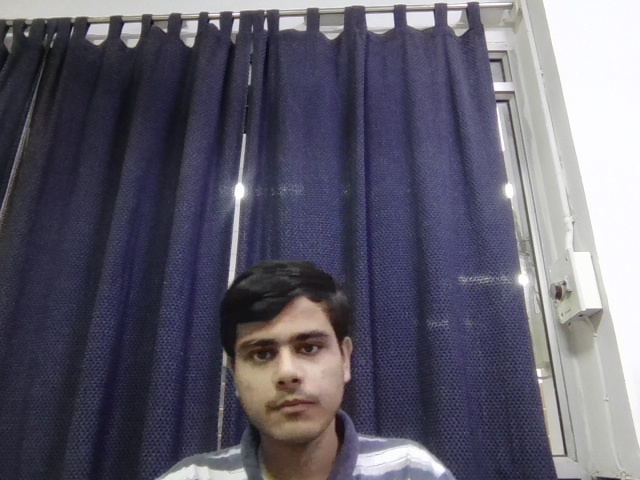face: (223, 261, 354, 441)
